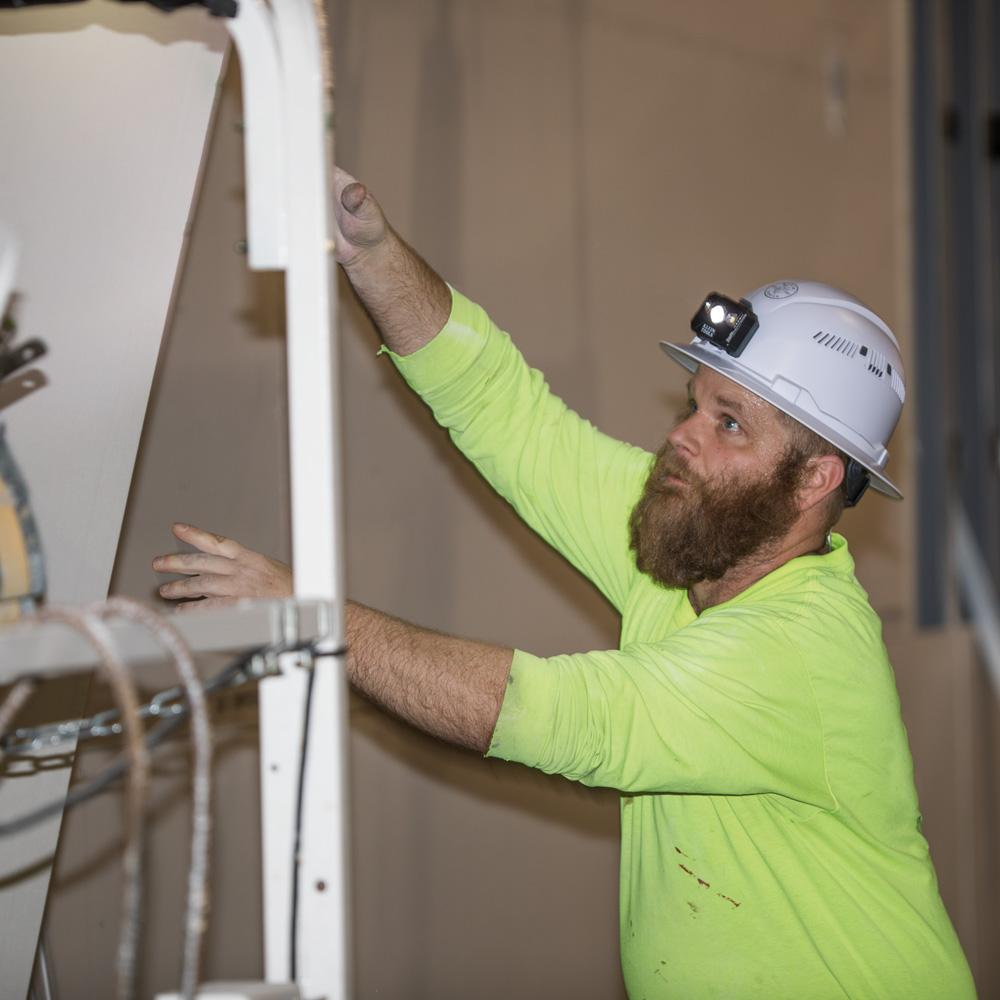helmet: (662, 281, 914, 491)
